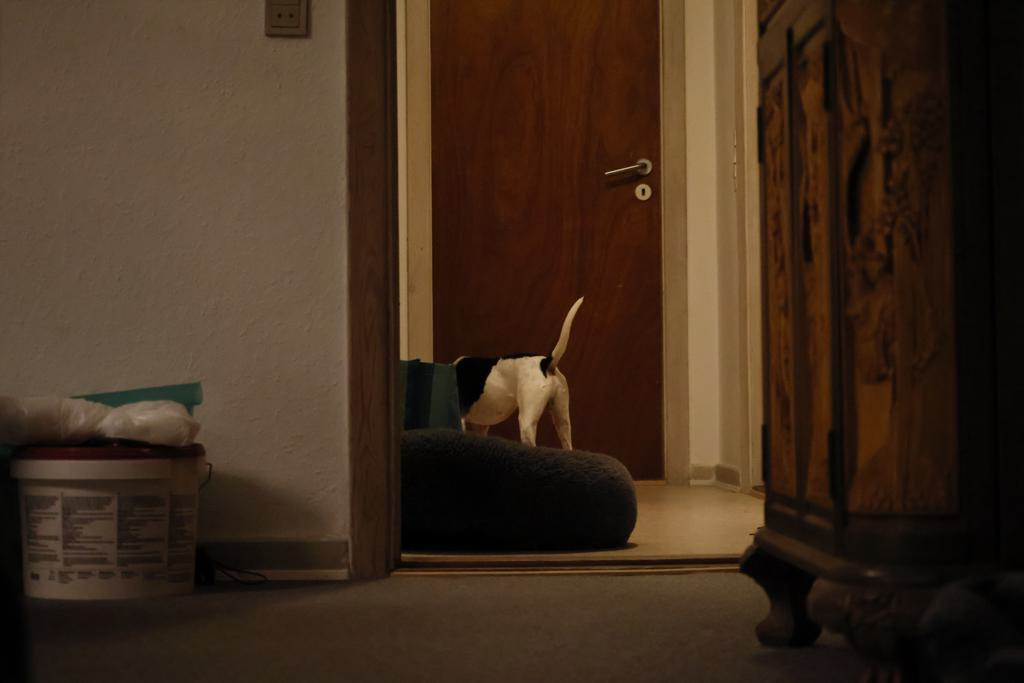Dog: (439, 291, 588, 456)
